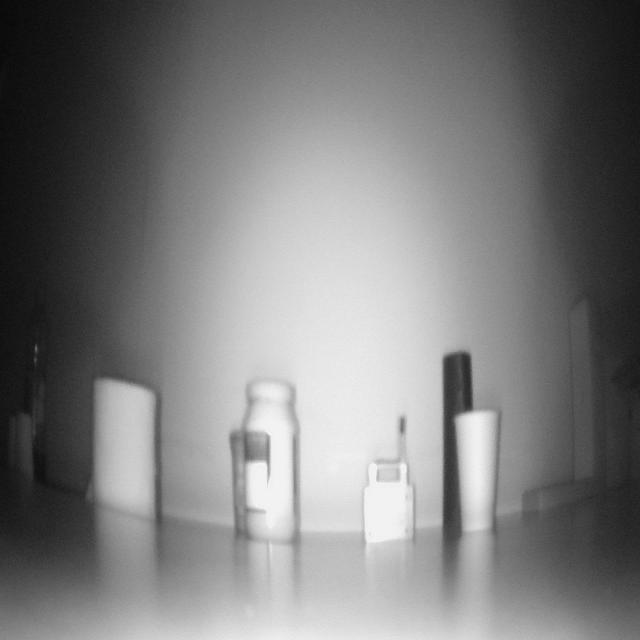targets: (524, 291, 607, 523), (231, 378, 301, 540), (93, 369, 159, 522), (19, 278, 55, 470), (453, 414, 502, 535), (442, 350, 472, 535), (362, 450, 415, 553), (8, 413, 37, 477)
